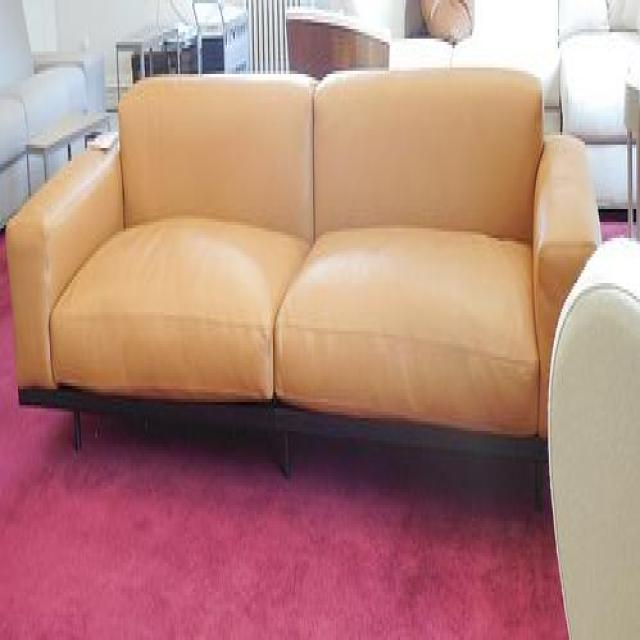sofa: (4, 69, 602, 488)
